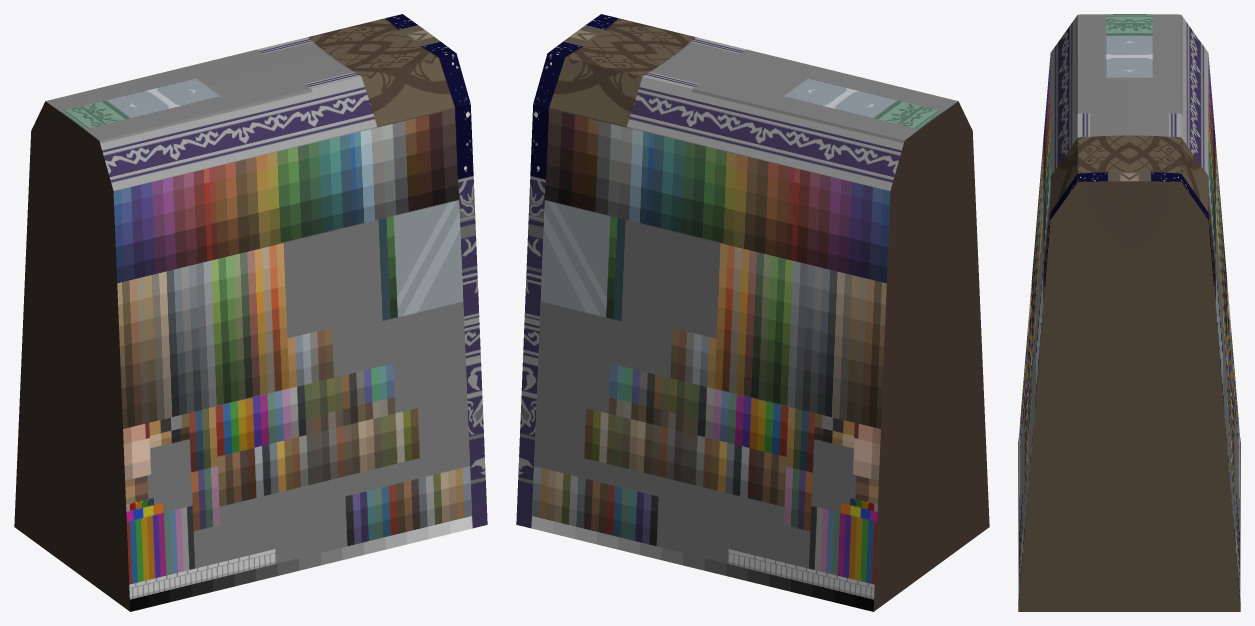
The model's file is elven_SM_Bld_House_Base_Wall_Half_01.gltf.
The picture shows the model from 3 angles, left to right: view 1: azimuth 30°, elevation 25°; view 2: azimuth 150°, elevation 25°; view 3: azimuth 270°, elevation 25°; orthographic projection. The views are drawn at different scales.
Visible parts, largest first — view 1: SM_Bld_House_Base_Wall_Half_01; view 2: SM_Bld_House_Base_Wall_Half_01; view 3: SM_Bld_House_Base_Wall_Half_01.
Boxes of the visible parts, left/top/right/bottom form: SM_Bld_House_Base_Wall_Half_01: left=14, top=14, right=487, bottom=611; SM_Bld_House_Base_Wall_Half_01: left=516, top=14, right=989, bottom=611; SM_Bld_House_Base_Wall_Half_01: left=1018, top=14, right=1240, bottom=611.
Size of the model in its own units: 1.25 by 1.5 by 0.7031.
1 material, 1 textured.
